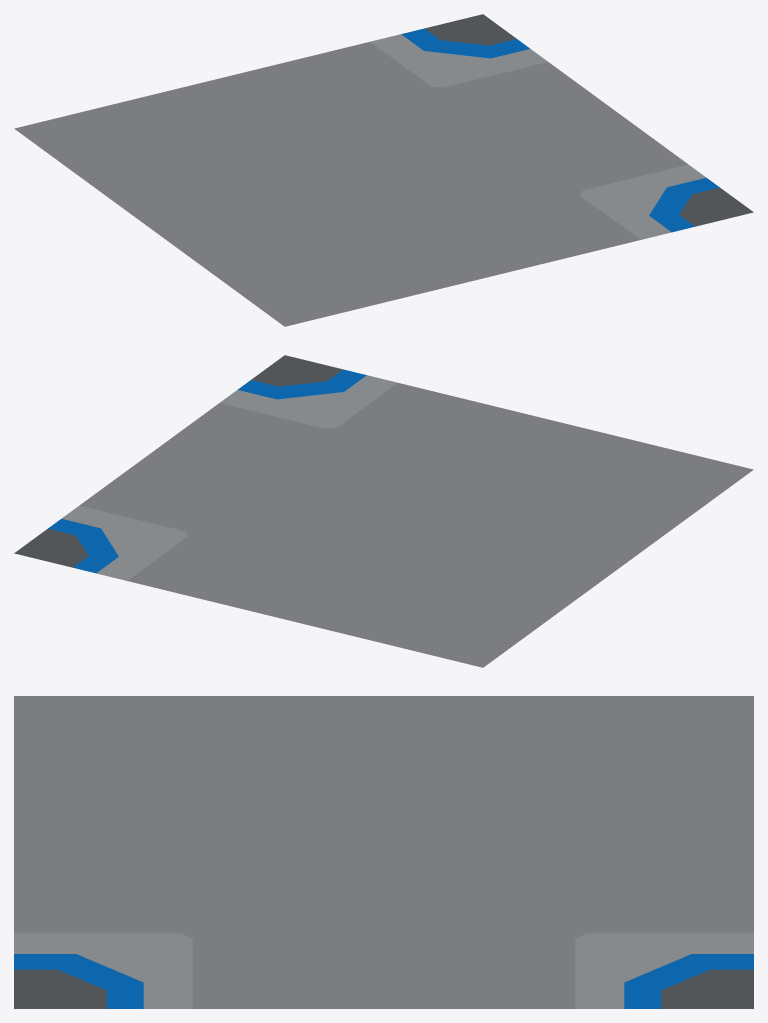
The model's file is Ceiling_type_B_047.fbx.
3 renders of one model, top to bottom at view 1: azimuth 30°, elevation 25°; view 2: azimuth 150°, elevation 25°; view 3: azimuth 270°, elevation 25°, orthographic. The views are drawn at different scales.
Visible parts, largest first — view 1: Ceiling_type_B_047; view 2: Ceiling_type_B_047; view 3: Ceiling_type_B_047.
Boxes of the visible parts, x1,y1,x2,y2 form: Ceiling_type_B_047: (14,14,753,326); Ceiling_type_B_047: (14,355,753,667); Ceiling_type_B_047: (14,696,753,1008).
Bounding box in the file's own units: 400 × 400 × 3.5.
